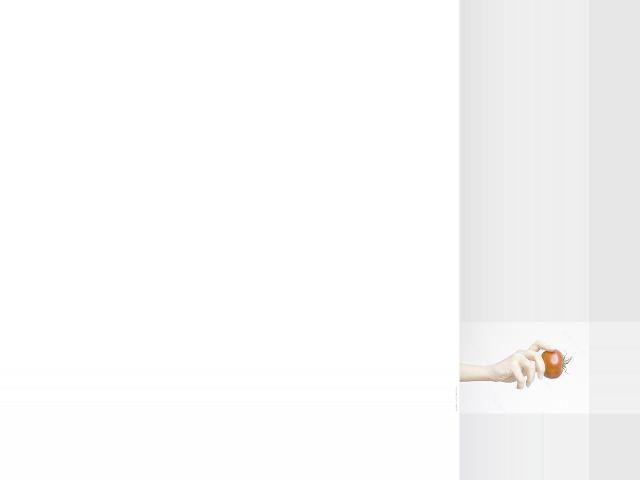tomato: (541, 350, 572, 379)
